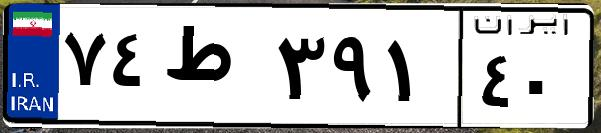0: (525, 38, 570, 115)
1: (385, 28, 445, 110)
3: (270, 28, 330, 110)
4: (475, 38, 525, 113), (110, 28, 158, 98)
7: (57, 26, 110, 100)
9: (330, 28, 385, 110)
ط: (158, 20, 270, 120)
